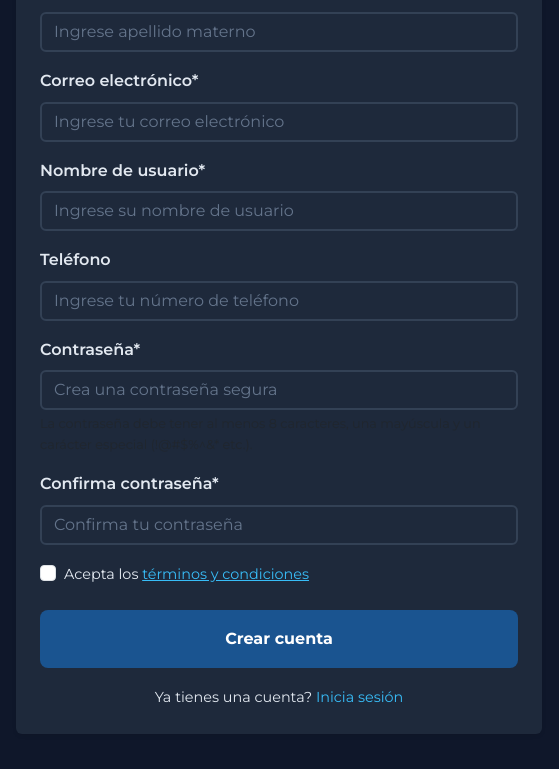
Registro Component › Validaciones de campos obligatorios › debe mostrar error cuando el campo apellido materno está vacío
This screenshot has width=559, height=769.
(page scrolled)
Click the button "Crear cuenta" at (279, 639), box [40,610,518,668]
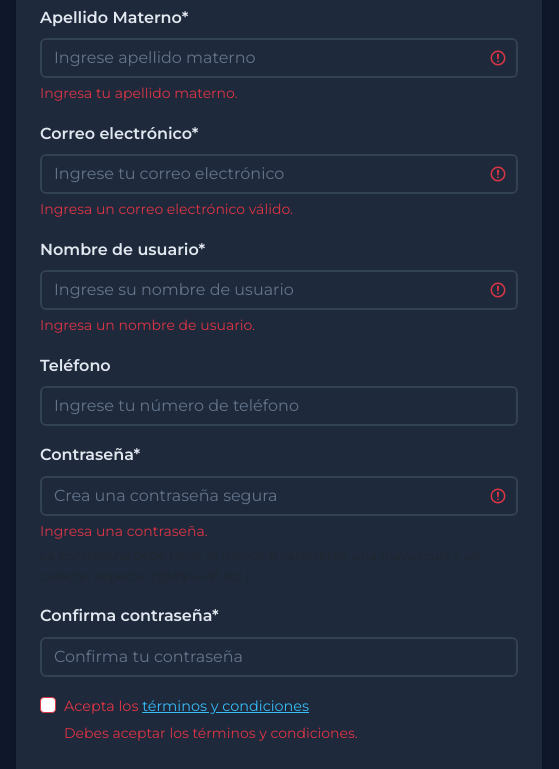
Expected: the text "Ingresa tu apellido materno." is shown, [40,84,238,102]
